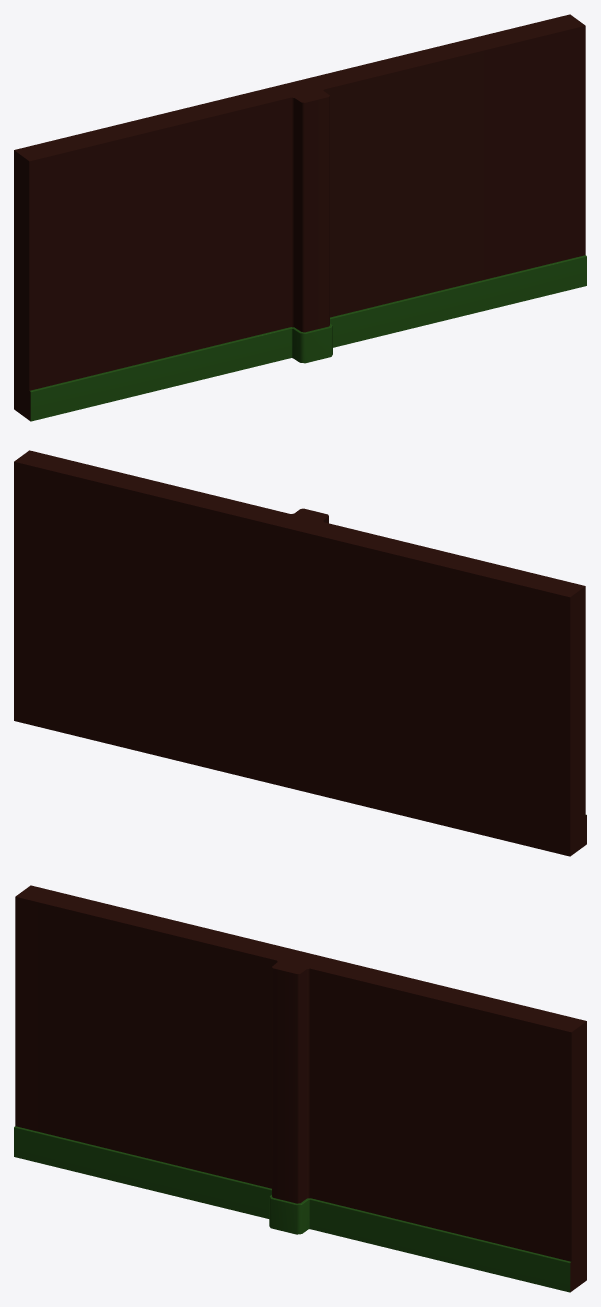
File: SeanElstonShortWallFinal.fbx
3 renders of one model, top to bottom at view 1: azimuth 30°, elevation 25°; view 2: azimuth 150°, elevation 25°; view 3: azimuth 330°, elevation 25°, orthographic.
Parts seen in each view (by area): view 1: ShortWall; view 2: ShortWall; view 3: ShortWall.
Part boxes in pixels (left/top/right/bottom): ShortWall: left=14, top=14, right=586, bottom=421; ShortWall: left=14, top=450, right=586, bottom=856; ShortWall: left=14, top=885, right=586, bottom=1292.
Size of the model in its own units: 741 by 330 by 59.38.
